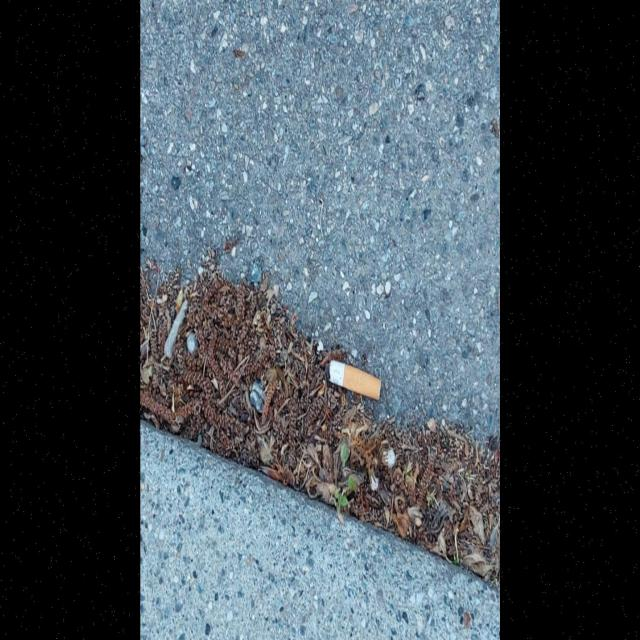other waste: (324, 359, 381, 401)
